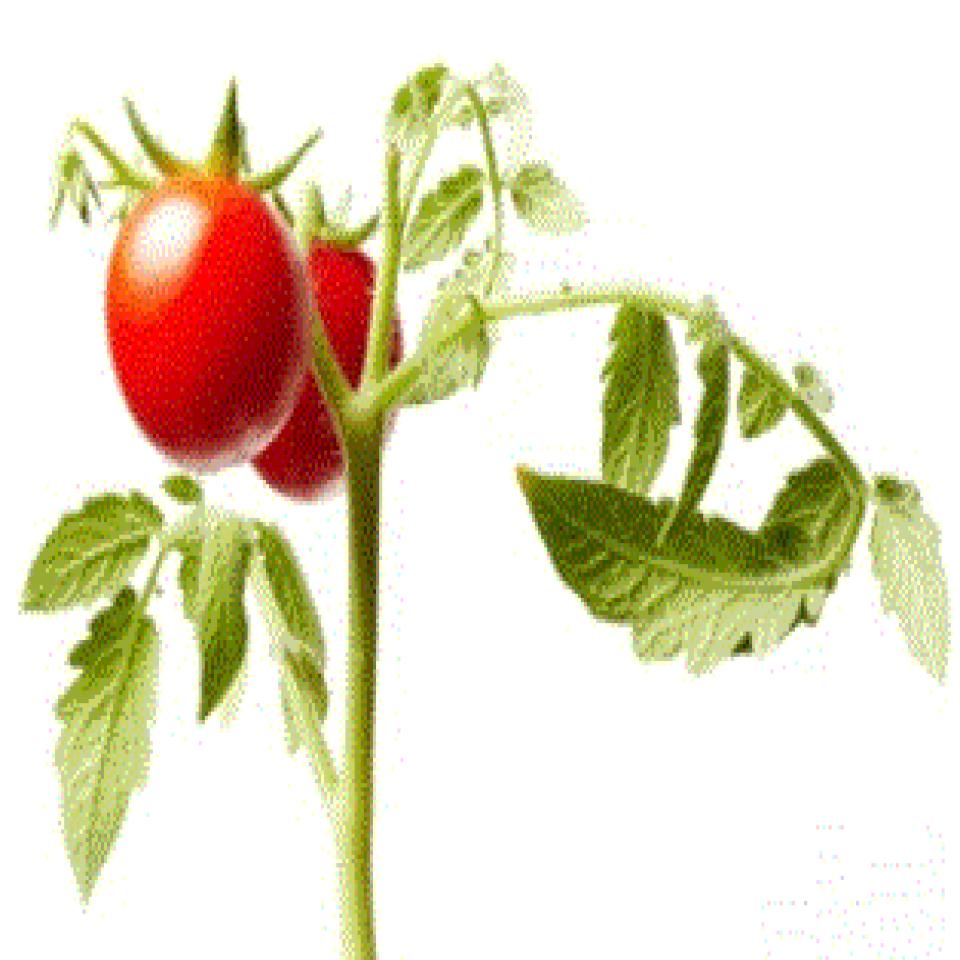Healthy: (104, 155, 303, 481), (244, 205, 408, 542)
